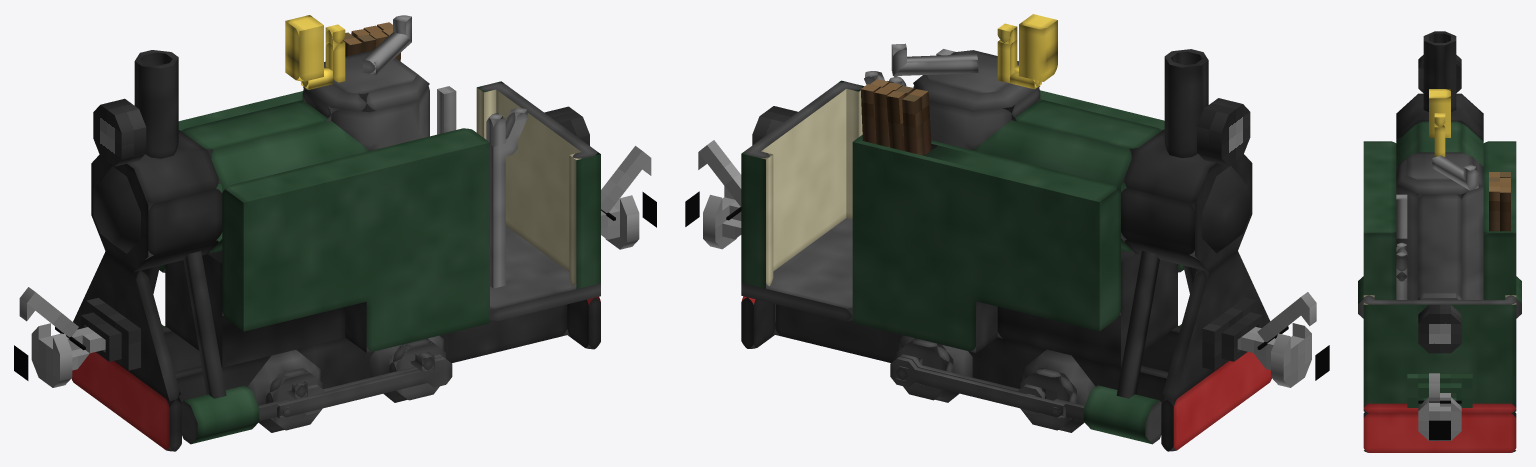
The model's file is kitsune_pixie_locomotive.obj.
3 renders of one model, left to right at view 1: azimuth 30°, elevation 25°; view 2: azimuth 150°, elevation 25°; view 3: azimuth 270°, elevation 25°, orthographic. The views are drawn at different scales.
Visible parts, largest first — view 1: FRAME_Cube.015, COUPLER_ENGAGED_FRONT_1_TOGGLE_LABEL_Uncouple_Cube.011, REVERSER_1_LABEL_Reverser_Cube.045, WHEEL_DRIVER_1_Cube.007, STEAM_CHEST_Cube.018, MAIN_ROD_LEFT_Cube.013, WIDGET_5_CG_headfront_TOGGLE_LABEL_Front^Headlight_Cube.040, WHEEL_DRIVER_2_Cube.001, WHISTLE_Cube.017, COUPLER_ENGAGED_REAR_2_TOGGLE_LABEL_Uncouple_Cube.024, COUPLED_REAR_2_Cube.023, THROTTLE_1_LABEL_Regulator_Cube.041 (+6 smaller); view 2: FRAME_Cube.015, COUPLER_ENGAGED_FRONT_1_TOGGLE_LABEL_Uncouple_Cube.011, CARGO_FILL_1_Cube.056, WHEEL_DRIVER_1_Cube.007, STEAM_CHEST_Cube.018, MAIN_ROD_RIGHT_Cube.008, WIDGET_5_CG_headfront_TOGGLE_LABEL_Front^Headlight_Cube.040, WHEEL_DRIVER_2_Cube.001, WHISTLE_Cube.017, COUPLER_ENGAGED_REAR_2_TOGGLE_LABEL_Uncouple_Cube.024, THROTTLE_1_LABEL_Regulator_Cube.041, COUPLED_REAR_2_Cube.023 (+4 smaller); view 3: FRAME_Cube.015, COUPLER_ENGAGED_REAR_2_TOGGLE_LABEL_Uncouple_Cube.024, WIDGET_6_CG_headrear_TOGGLE_LABEL_Rear^Headlight_Cube.002, CARGO_FILL_1_Cube.056, THROTTLE_1_LABEL_Regulator_Cube.041, WHISTLE_Cube.017, REVERSER_1_LABEL_Reverser_Cube.045, TRAIN_BRAKE_1_LABEL_Vacuum^Brake_Cube.020, WHISTLE_CONTROL_1_PRESS_Cube.019, STEAM_CHEST_Cube.018, WIDGET_5_CG_headfront_TOGGLE_LABEL_Front^Headlight_Cube.040, COUPLED_REAR_2_Cube.023.
Part boxes in pixels (x1=…): FRAME_Cube.015: x1=71, y1=50, x2=600, y2=451; COUPLER_ENGAGED_FRONT_1_TOGGLE_LABEL_Uncouple_Cube.011: x1=14, y1=297, x2=140, y2=387; REVERSER_1_LABEL_Reverser_Cube.045: x1=486, y1=108, x2=528, y2=288; WHEEL_DRIVER_1_Cube.007: x1=247, y1=350, x2=322, y2=432; STEAM_CHEST_Cube.018: x1=161, y1=324, x2=259, y2=444; MAIN_ROD_LEFT_Cube.013: x1=277, y1=357, x2=452, y2=418; WIDGET_5_CG_headfront_TOGGLE_LABEL_Front^Headlight_Cube.040: x1=93, y1=98, x2=146, y2=166; WHEEL_DRIVER_2_Cube.001: x1=370, y1=335, x2=445, y2=402; WHISTLE_Cube.017: x1=285, y1=15, x2=323, y2=81; COUPLER_ENGAGED_REAR_2_TOGGLE_LABEL_Uncouple_Cube.024: x1=601, y1=192, x2=656, y2=249; COUPLED_REAR_2_Cube.023: x1=601, y1=146, x2=651, y2=212; THROTTLE_1_LABEL_Regulator_Cube.041: x1=363, y1=15, x2=411, y2=74; FRAME_Cube.015: x1=741, y1=49, x2=1271, y2=451; COUPLER_ENGAGED_FRONT_1_TOGGLE_LABEL_Uncouple_Cube.011: x1=1202, y1=297, x2=1329, y2=387; CARGO_FILL_1_Cube.056: x1=861, y1=79, x2=931, y2=155; WHEEL_DRIVER_1_Cube.007: x1=1020, y1=349, x2=1095, y2=432; STEAM_CHEST_Cube.018: x1=1083, y1=324, x2=1181, y2=444; MAIN_ROD_RIGHT_Cube.008: x1=890, y1=357, x2=1065, y2=418; WIDGET_5_CG_headfront_TOGGLE_LABEL_Front^Headlight_Cube.040: x1=1197, y1=98, x2=1250, y2=165; WHEEL_DRIVER_2_Cube.001: x1=896, y1=335, x2=972, y2=402; WHISTLE_Cube.017: x1=1019, y1=14, x2=1057, y2=81; COUPLER_ENGAGED_REAR_2_TOGGLE_LABEL_Uncouple_Cube.024: x1=685, y1=186, x2=741, y2=249; THROTTLE_1_LABEL_Regulator_Cube.041: x1=891, y1=43, x2=978, y2=75; COUPLED_REAR_2_Cube.023: x1=698, y1=140, x2=741, y2=206; FRAME_Cube.015: x1=1363, y1=31, x2=1516, y2=452; COUPLER_ENGAGED_REAR_2_TOGGLE_LABEL_Uncouple_Cube.024: x1=1407, y1=374, x2=1472, y2=440; WIDGET_6_CG_headrear_TOGGLE_LABEL_Rear^Headlight_Cube.002: x1=1418, y1=304, x2=1461, y2=353; CARGO_FILL_1_Cube.056: x1=1489, y1=172, x2=1510, y2=231; THROTTLE_1_LABEL_Regulator_Cube.041: x1=1432, y1=155, x2=1478, y2=190; WHISTLE_Cube.017: x1=1429, y1=89, x2=1450, y2=137; REVERSER_1_LABEL_Reverser_Cube.045: x1=1396, y1=242, x2=1407, y2=299; TRAIN_BRAKE_1_LABEL_Vacuum^Brake_Cube.020: x1=1396, y1=194, x2=1407, y2=238; WHISTLE_CONTROL_1_PRESS_Cube.019: x1=1434, y1=113, x2=1445, y2=156; STEAM_CHEST_Cube.018: x1=1358, y1=276, x2=1521, y2=318; WIDGET_5_CG_headfront_TOGGLE_LABEL_Front^Headlight_Cube.040: x1=1418, y1=55, x2=1461, y2=92; COUPLED_REAR_2_Cube.023: x1=1429, y1=373, x2=1439, y2=401.
Size of the model in its own units: 3.19 by 1.94 by 0.9375.
Materials: 6 (6 with a texture image).
